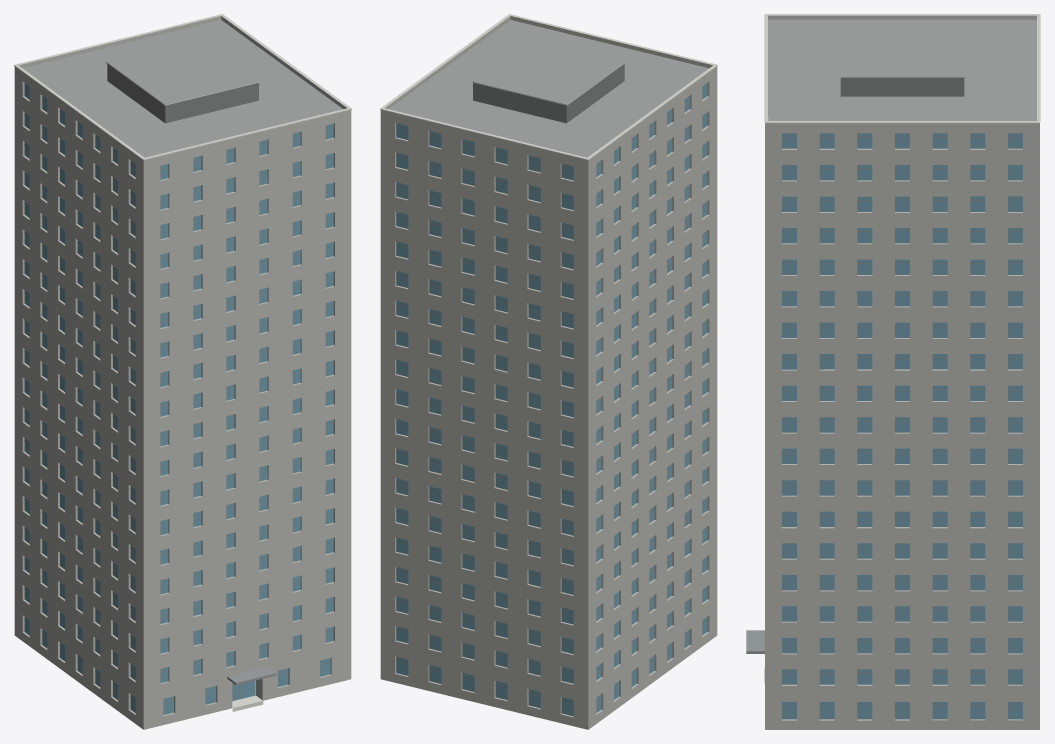
3 views of the same model, side by side, from view 1: azimuth 30°, elevation 25°; view 2: azimuth 150°, elevation 25°; view 3: azimuth 270°, elevation 25° (orthographic). The views are drawn at different scales.
Parts seen in each view (by area): view 1: unist-batch-b309__parapet, b309__glass, b309__trim, b309__frame; view 2: unist-batch-b309__parapet, b309__glass, b309__frame, b309__trim; view 3: unist-batch-b309__parapet, b309__glass, b309__frame, b309__trim.
Boxes of the visible parts, x1,y1,x2,y2 form: unist-batch-b309__parapet: (14, 16, 351, 729); b309__glass: (24, 83, 333, 714); b309__trim: (14, 14, 351, 160); b309__frame: (24, 85, 333, 702); unist-batch-b309__parapet: (380, 16, 717, 729); b309__glass: (396, 83, 707, 716); b309__frame: (396, 85, 707, 704); b309__trim: (380, 14, 717, 160); unist-batch-b309__parapet: (765, 15, 1039, 729); b309__glass: (782, 133, 1022, 719); b309__frame: (782, 136, 1022, 706); b309__trim: (764, 14, 1040, 123).
Bounding box in the file's own units: 24.73 × 66.7 × 28.35.
